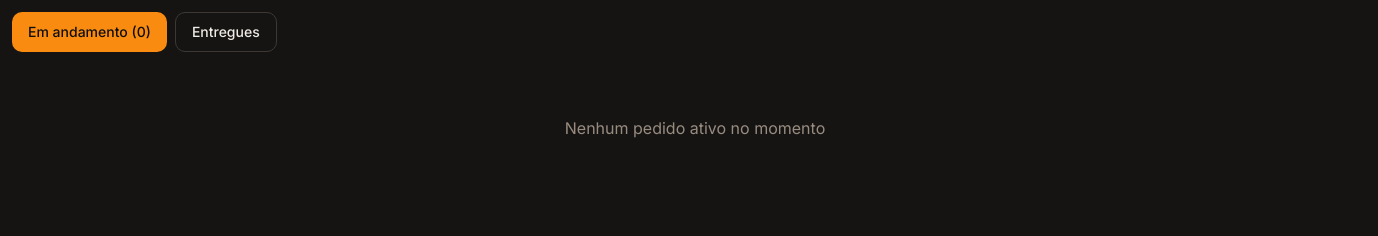
Test case: delivered orders view › keeps the delivered filter accessible with no active tables and displays history
Expected: the text "Nenhum pedido ativo no momento" is shown, [565,118,825,138]
Click the button "Entregues" at (226, 32), box [175,12,277,52]
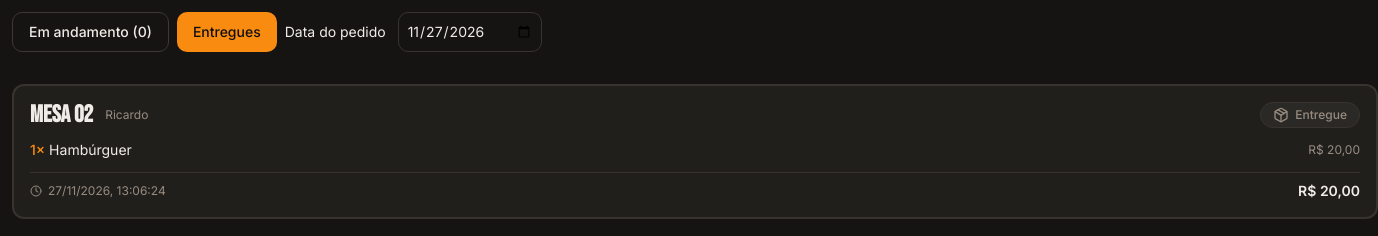
Result: the text "Hambúrguer" is shown at [49,141,132,158]
Result: the text "Mesa 02" is shown at [30,103,93,127]
Result: the date field labelled "Data do pedido" is shown at [398,12,542,52]
